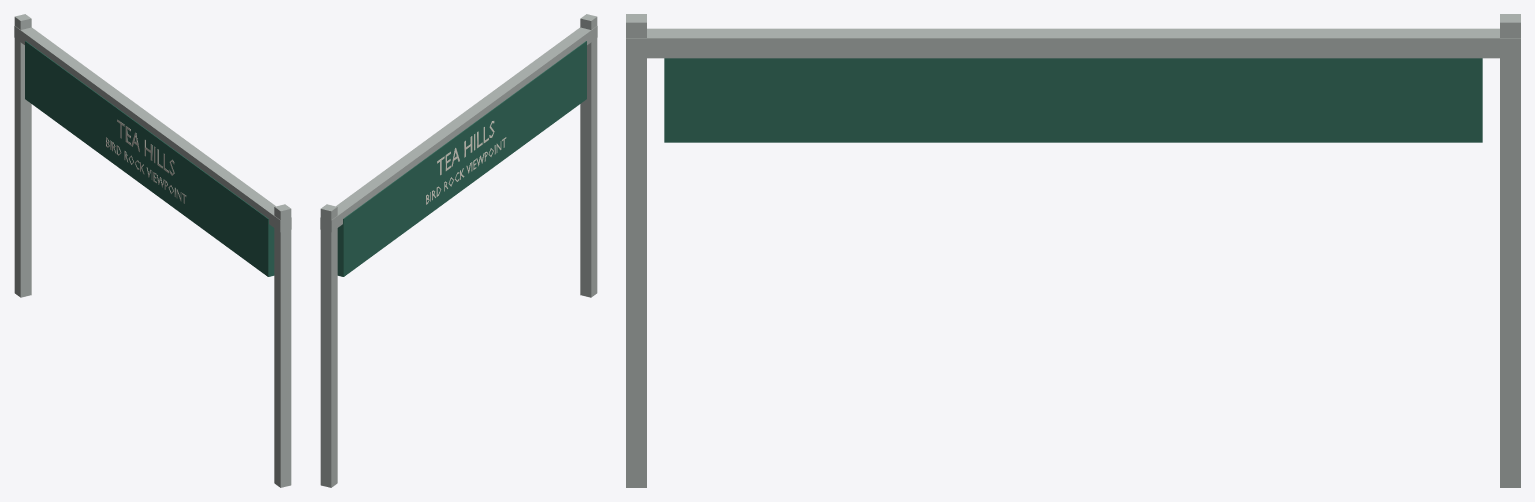
The model's file is HighlandGateway.glb.
3 views of the same model, side by side, from view 1: azimuth 30°, elevation 25°; view 2: azimuth 150°, elevation 25°; view 3: azimuth 270°, elevation 25° (orthographic). The views are drawn at different scales.
Parts seen in each view (by area): view 1: HighlandGateway_Highlands_Estate_Sign_Green, HighlandGateway_Highlands_Gateway_Steel, HighlandGateway_Highlands_WeatheredWhite; view 2: HighlandGateway_Highlands_Estate_Sign_Green, HighlandGateway_Highlands_Gateway_Steel, HighlandGateway_Highlands_WeatheredWhite; view 3: HighlandGateway_Highlands_Estate_Sign_Green, HighlandGateway_Highlands_Gateway_Steel.
Part boxes in pixels (x1,y1,x2,y2): HighlandGateway_Highlands_Estate_Sign_Green: (25,41,274,276); HighlandGateway_Highlands_Gateway_Steel: (14,14,291,487); HighlandGateway_Highlands_WeatheredWhite: (106,119,186,203); HighlandGateway_Highlands_Estate_Sign_Green: (337,41,586,276); HighlandGateway_Highlands_Gateway_Steel: (320,14,597,487); HighlandGateway_Highlands_WeatheredWhite: (426,121,506,204); HighlandGateway_Highlands_Estate_Sign_Green: (664,58,1482,142); HighlandGateway_Highlands_Gateway_Steel: (626,14,1520,487).
Size of the model in its own units: 0.358 by 7.4 by 12.9.
